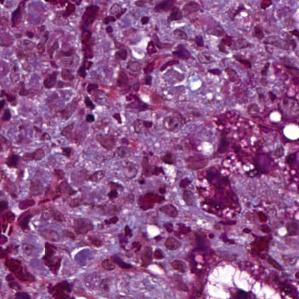ballooning: (203, 263, 294, 299)
